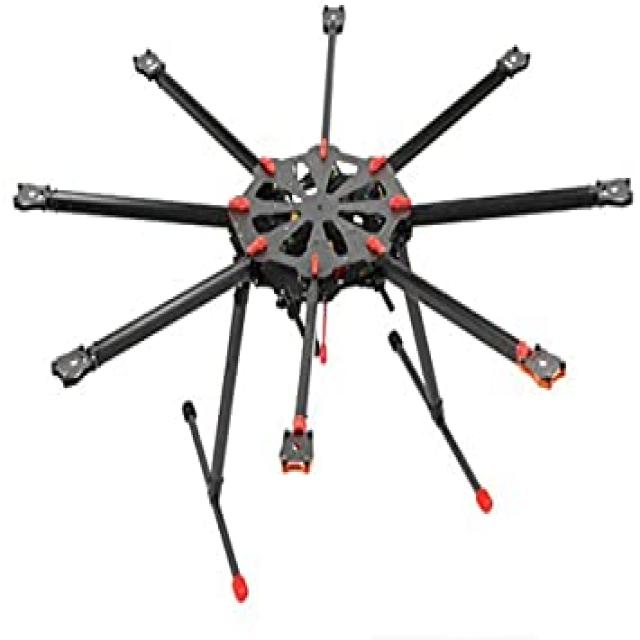drone: (21, 7, 632, 602)
